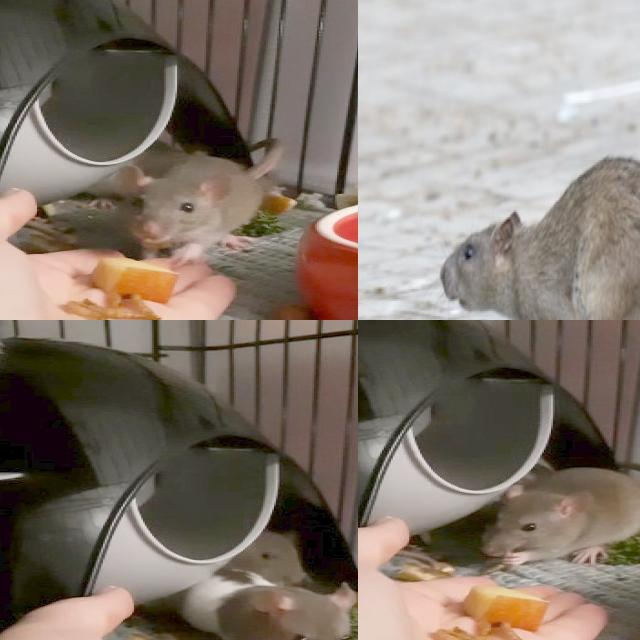rat: (440, 150, 640, 320), (106, 153, 270, 269), (479, 462, 640, 566), (164, 566, 358, 640), (212, 523, 311, 585)
